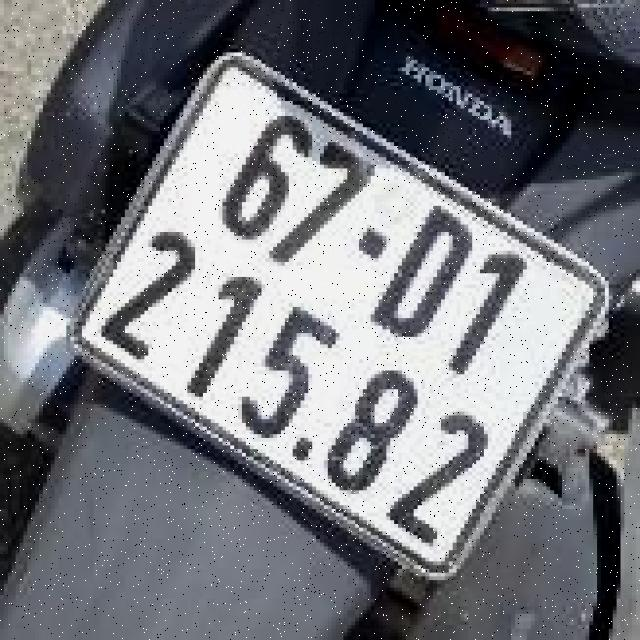1: (159, 257, 276, 414), (420, 237, 533, 385)
2: (376, 393, 501, 557), (88, 221, 217, 371)
5: (220, 294, 349, 458)
6: (195, 96, 323, 257)
7: (253, 133, 384, 289)
8: (307, 353, 431, 512)
D: (358, 196, 488, 356)
